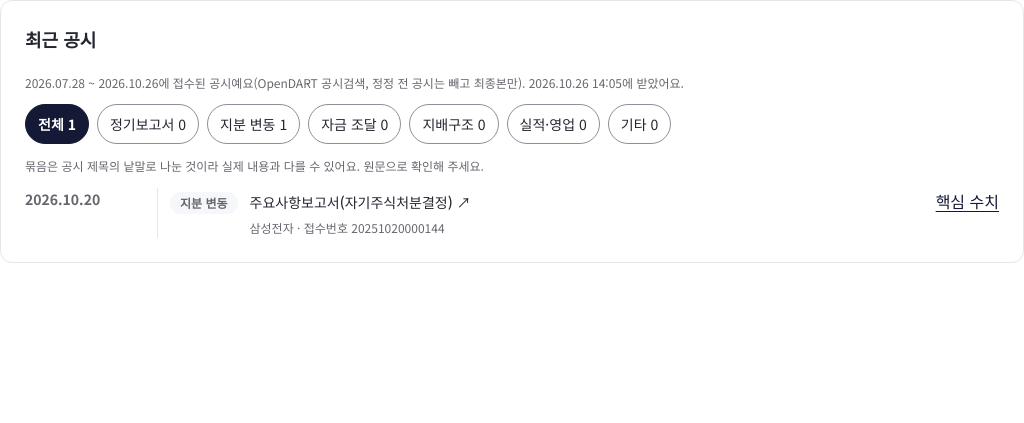
Test: 핵심 수치 › 펼치면 불러와 항목 이름·원문 값·단위와 출처를 보여 주고 다시 누르면 닫는다
Click the button "핵심 수치".
click(967, 202)  # box [936,188,999,215]
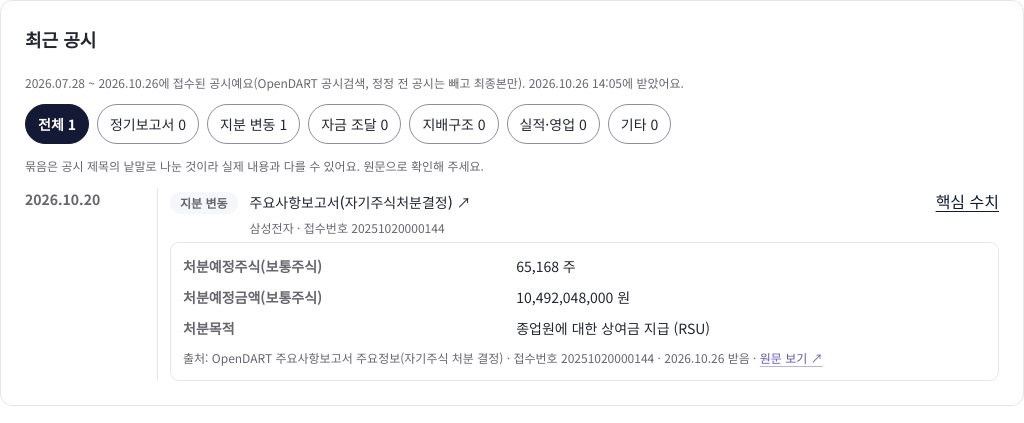
Check: the text "10,492,048,000 원" is shown, box [516,287,630,307]
Check: the text "처분예정주식(보통주식)" is shown, box [183,256,322,276]
Check: the text "65,168 주" is shown, box [516,256,576,276]
Click the button "핵심 수치".
click(967, 202)  # box [936,188,999,215]
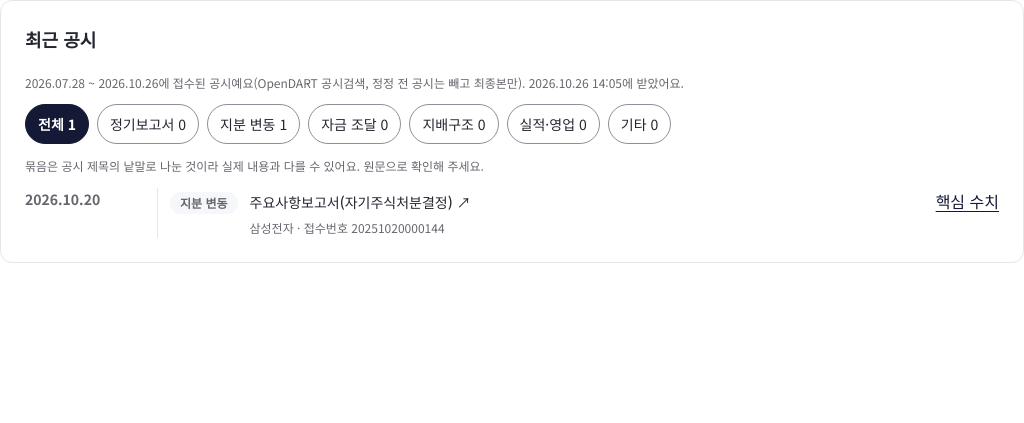
Check: the text "10,492,048,000 원" is gone
